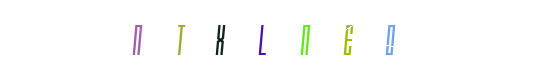E: (255, 0, 335, 80)
L: (231, 0, 311, 80)
N: (125, 0, 205, 80), (237, 0, 317, 80)
O: (310, 0, 390, 80)
T: (180, 0, 260, 80)
X: (221, 0, 301, 80)
